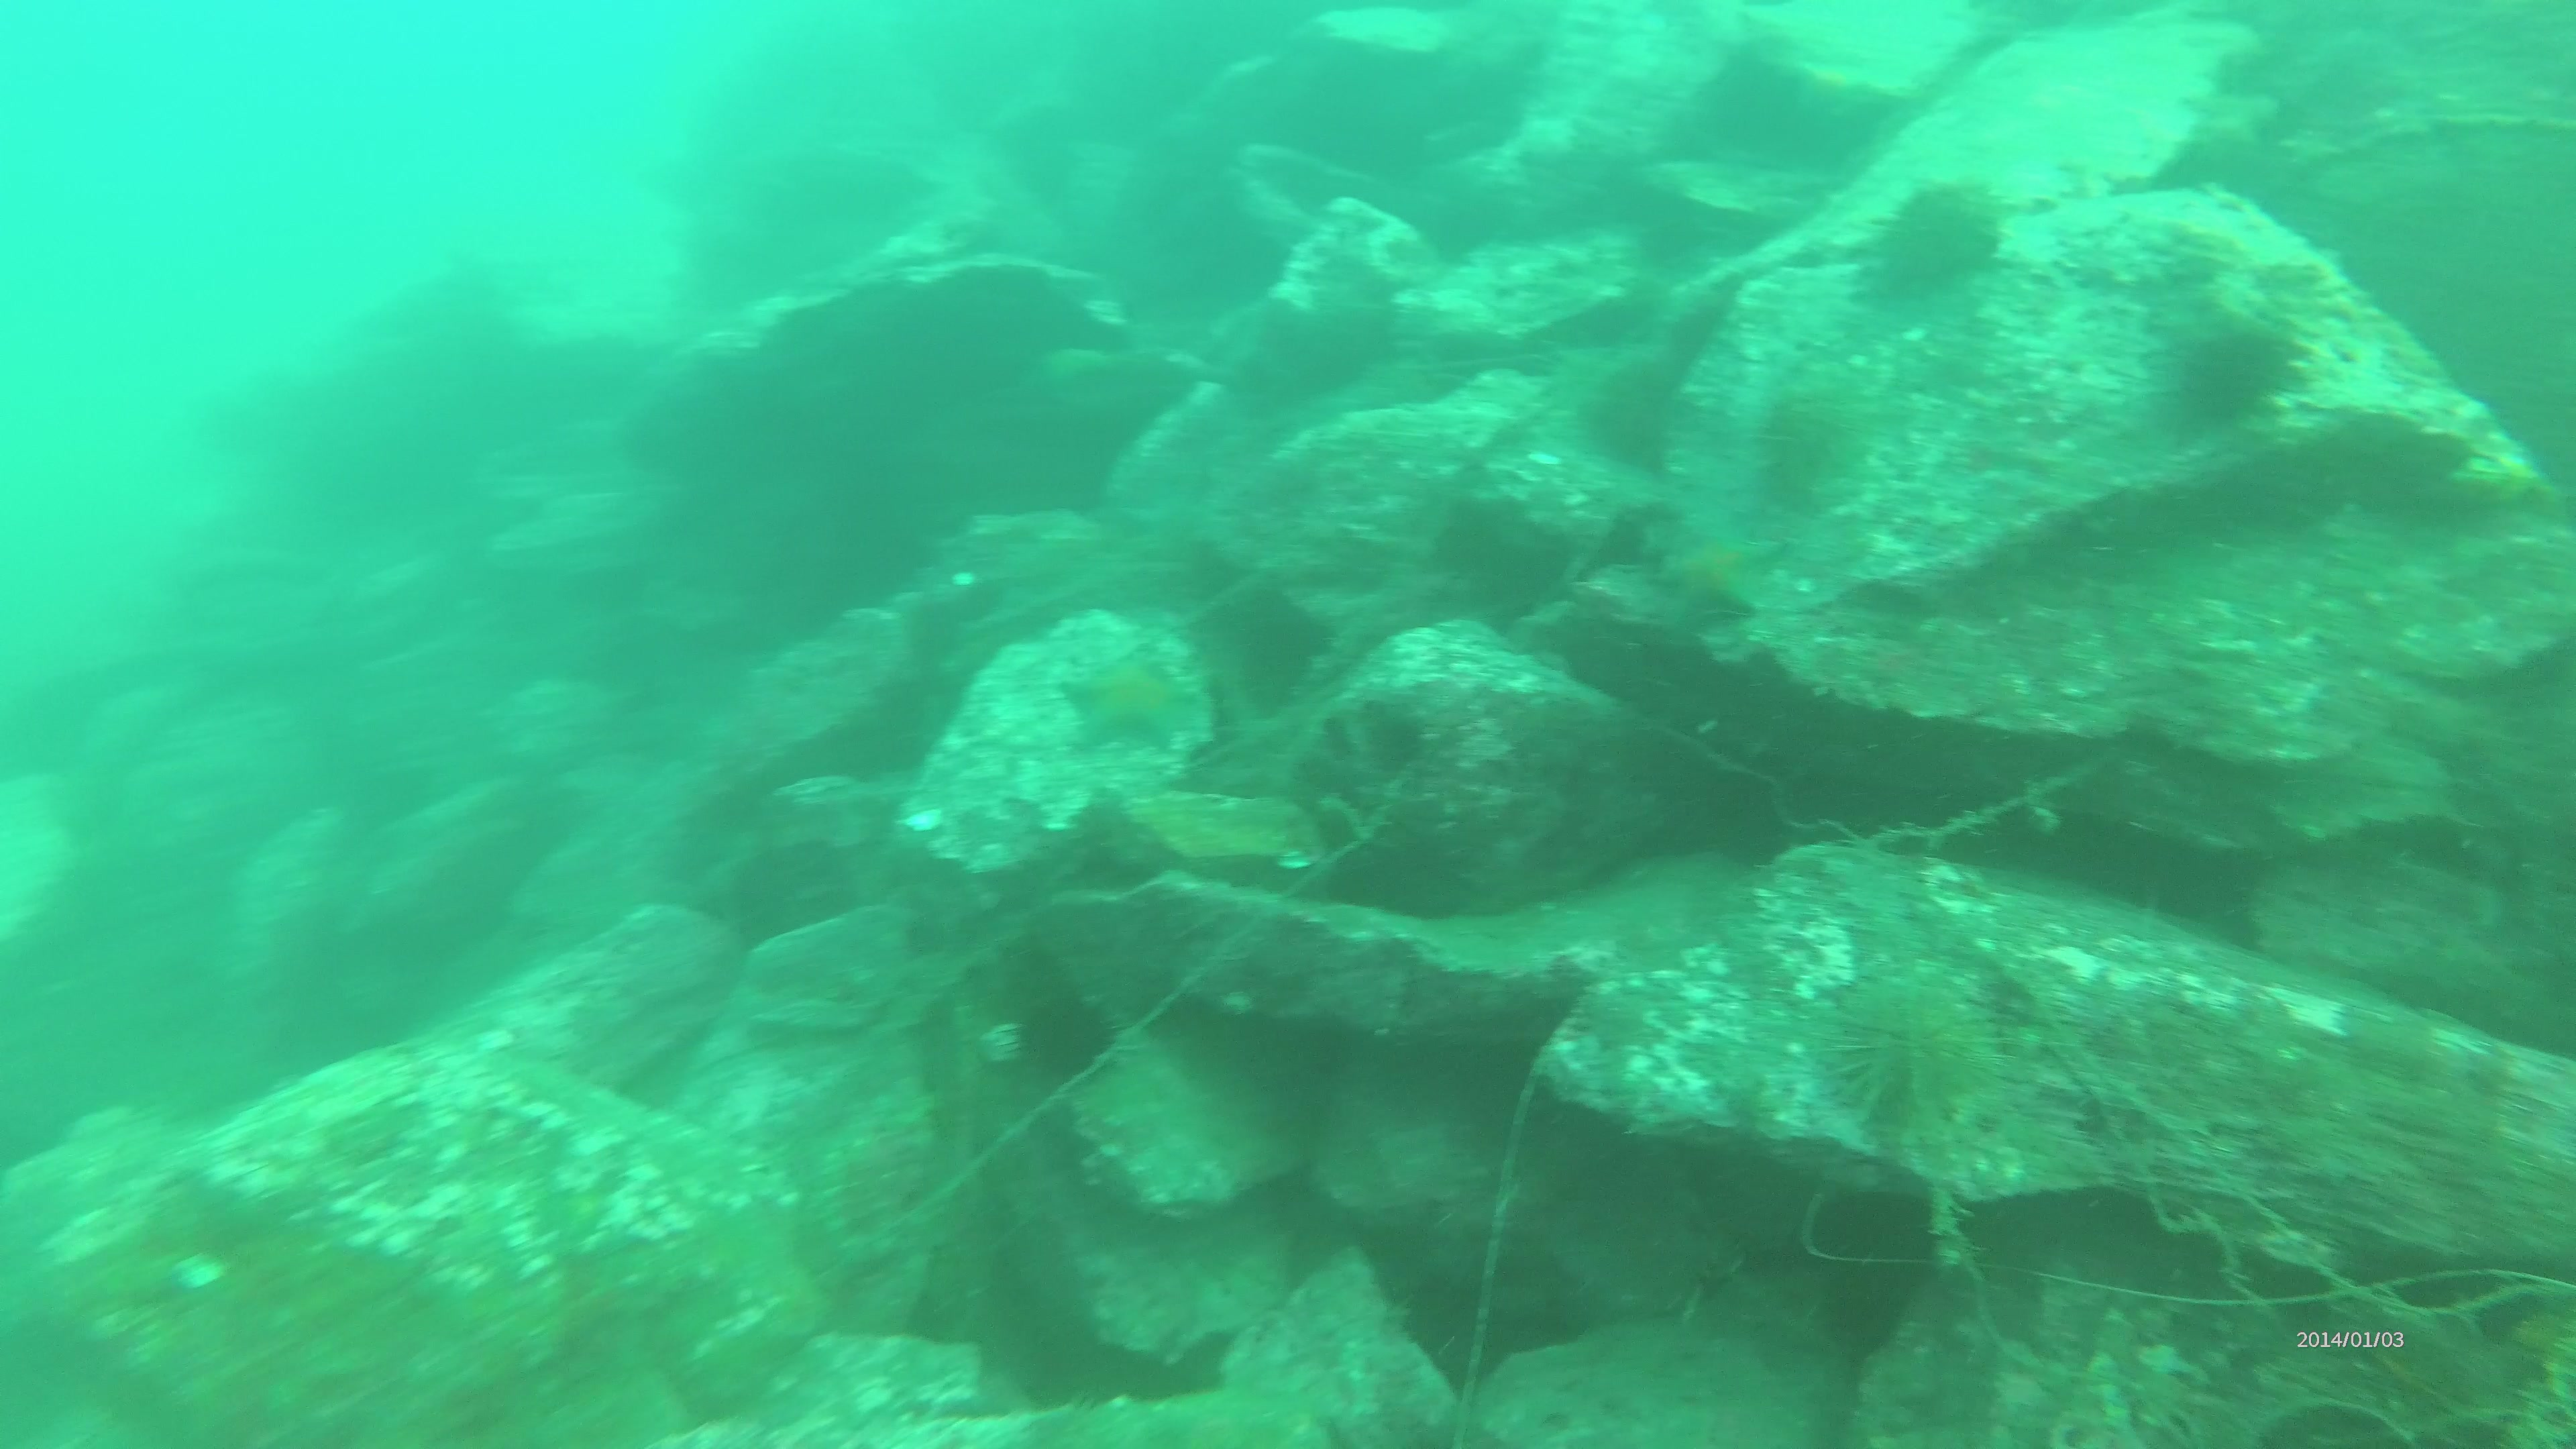echinus: (1831, 980, 2008, 1148), (1859, 173, 2005, 311), (2181, 310, 2298, 423), (1753, 384, 1859, 506), (1594, 349, 1686, 472)
starfish: (1654, 527, 1785, 637), (1067, 648, 1207, 743)
